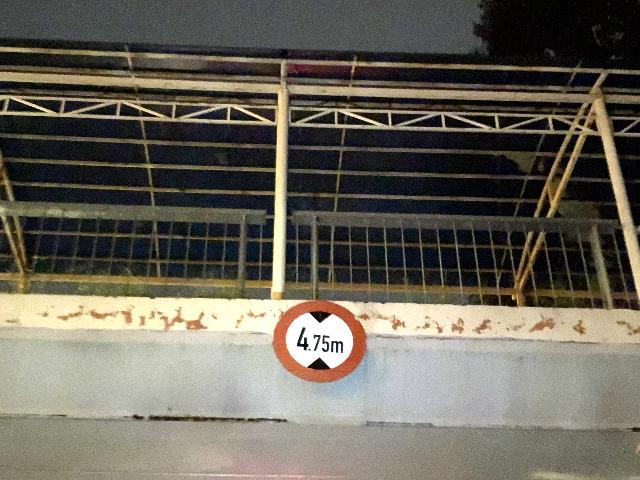han-che-chieu-cao: (273, 299, 366, 384)
